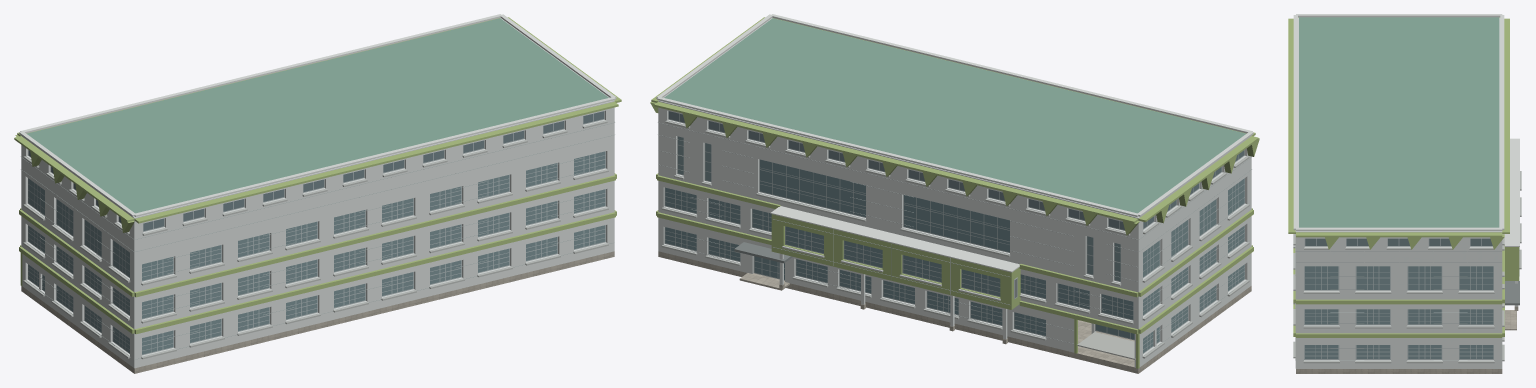
3 renders of one model, left to right at view 1: azimuth 30°, elevation 25°; view 2: azimuth 150°, elevation 25°; view 3: azimuth 270°, elevation 25°, orthographic. The views are drawn at different scales.
Parts seen in each view (by area): view 1: hall__panel, hall__roof, hall__sideglass, hall__lime, hall__frame, hall__sill, hall__cap, hall__stone, hall__joint, hall__clerestoryglass; view 2: hall__roof, hall__panel, hall__lime, hall__glass, hall__frame, hall__cap, hall__sill, hall__sideglass, hall__stone, hall__joint, hall__clerestoryglass, hall__slab (+1 smaller); view 3: hall__roof, hall__panel, hall__lime, hall__sideglass, hall__cap, hall__frame, hall__sill, hall__stone, hall__joint, hall__clerestoryglass, hall__entrance, hall__threshold-front.
Boxes of the visible parts, left/top/right/bottom form: hall__panel: left=21, top=18, right=614, bottom=368; hall__roof: left=27, top=18, right=608, bottom=213; hall__sideglass: left=28, top=151, right=605, bottom=354; hall__lime: left=14, top=17, right=621, bottom=334; hall__frame: left=28, top=111, right=605, bottom=355; hall__sill: left=23, top=120, right=608, bottom=359; hall__cap: left=19, top=14, right=616, bottom=216; hall__stone: left=21, top=251, right=614, bottom=373; hall__joint: left=21, top=122, right=614, bottom=359; hall__clerestoryglass: left=28, top=111, right=603, bottom=231; hall__roof: left=664, top=18, right=1245, bottom=213; hall__panel: left=658, top=18, right=1251, bottom=367; hall__lime: left=650, top=17, right=1259, bottom=368; hall__glass: left=665, top=159, right=1134, bottom=339; hall__frame: left=664, top=111, right=1244, bottom=353; hall__cap: left=656, top=14, right=1253, bottom=272; hall__sill: left=661, top=120, right=1249, bottom=358; hall__sideglass: left=678, top=136, right=1244, bottom=352; hall__stone: left=658, top=251, right=1251, bottom=373; hall__joint: left=658, top=122, right=1251, bottom=345; hall__clerestoryglass: left=669, top=111, right=1244, bottom=229; hall__slab: left=1077, top=332, right=1135, bottom=359; hall__roof: left=1299, top=17, right=1499, bottom=227; hall__panel: left=1295, top=17, right=1517, bottom=368; hall__lime: left=1288, top=17, right=1519, bottom=337; hall__sideglass: left=1305, top=266, right=1493, bottom=358; hall__cap: left=1293, top=14, right=1519, bottom=246; hall__frame: left=1304, top=238, right=1493, bottom=359; hall__sill: left=1293, top=171, right=1521, bottom=363; hall__stone: left=1296, top=305, right=1518, bottom=373; hall__joint: left=1295, top=245, right=1519, bottom=360; hall__clerestoryglass: left=1305, top=238, right=1492, bottom=245; hall__entrance: left=1505, top=281, right=1519, bottom=305; hall__threshold-front: left=1505, top=310, right=1516, bottom=330.
Bounding box in the file's own units: 50.46 × 15.53 × 22.6.
Materials: 13 (1 with a texture image).
